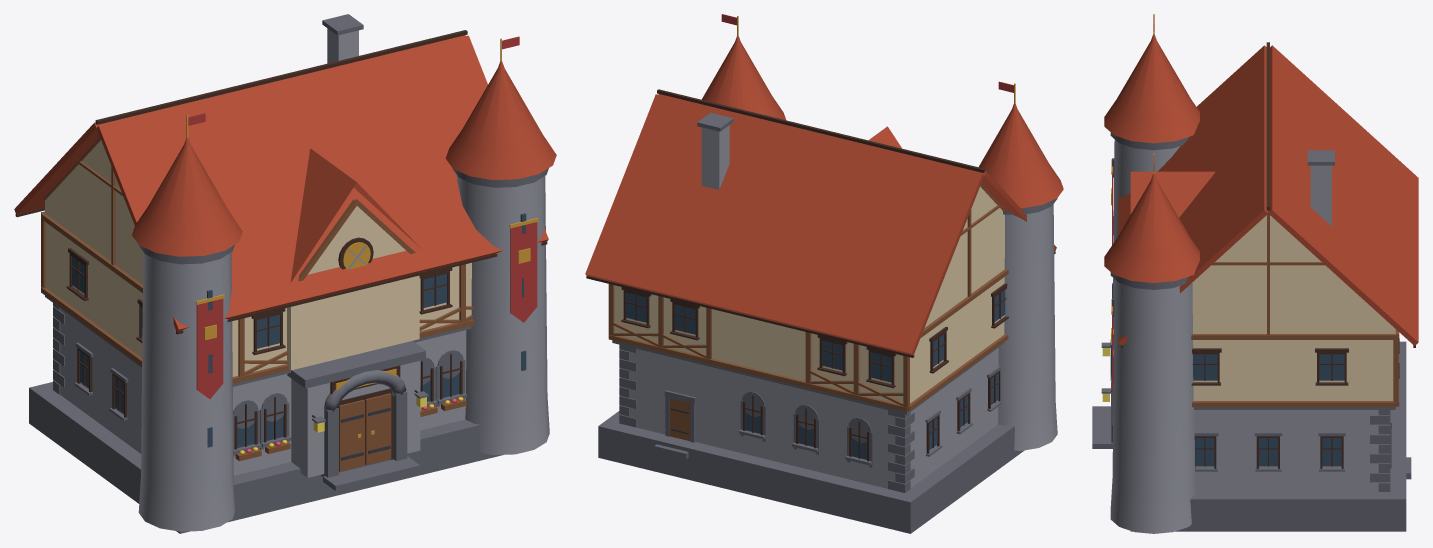
The model's file is guild_hall.glb.
3 renders of one model, left to right at view 1: azimuth 30°, elevation 25°; view 2: azimuth 150°, elevation 25°; view 3: azimuth 270°, elevation 25°, orthographic. The views are drawn at different scales.
Parts seen in each view (by area): view 1: plinth; view 2: plinth; view 3: plinth.
Boxes of the visible parts, box(x1,y1,x2,y2) form: plinth: box(14, 14, 556, 533); plinth: box(585, 14, 1063, 533); plinth: box(1092, 14, 1418, 533).
Bounding box in the file's own units: 20.4 × 19.2 × 15.38.
